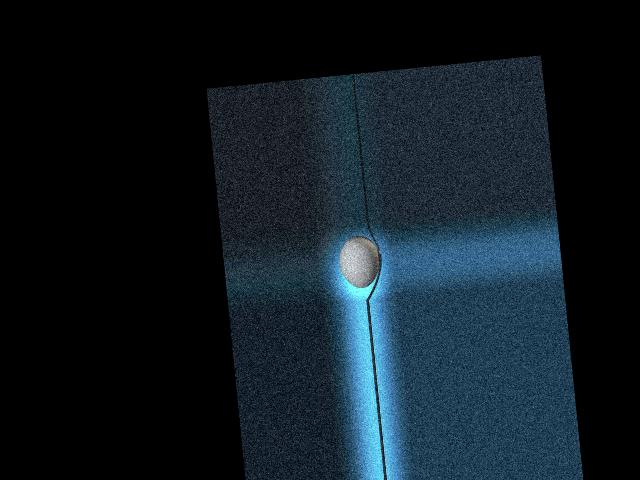egg: (337, 234, 382, 289)
